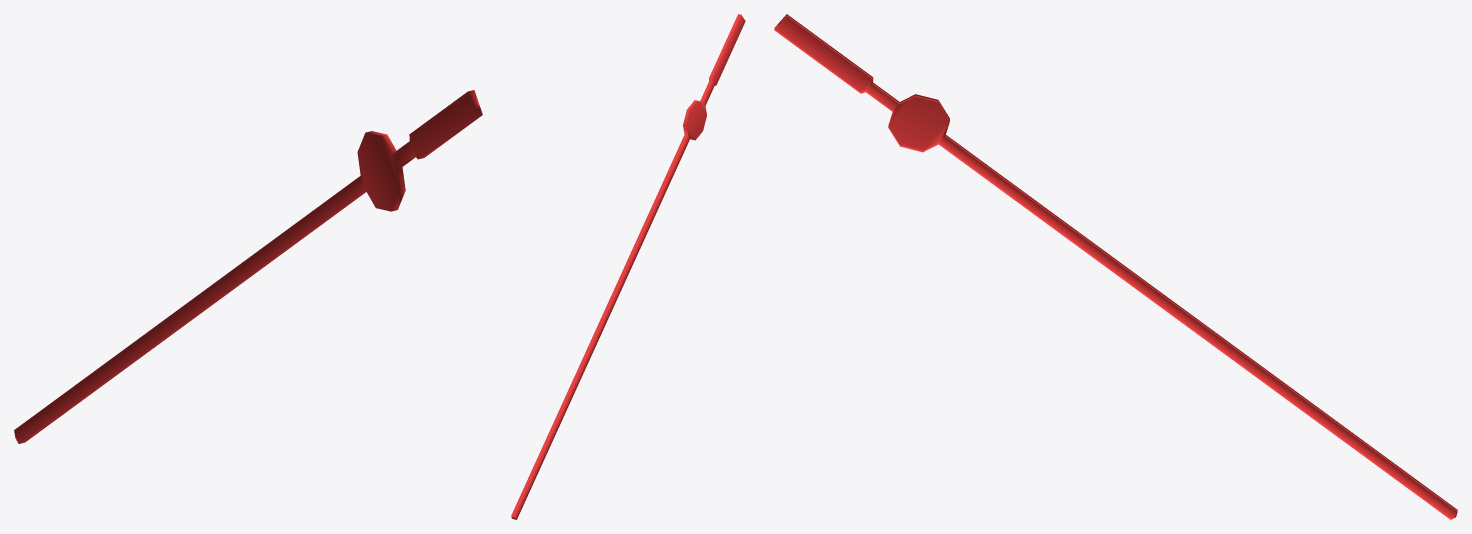
File: SM_Clock_01b.fbx
3 renders of one model, left to right at view 1: azimuth 30°, elevation 25°; view 2: azimuth 150°, elevation 25°; view 3: azimuth 270°, elevation 25°, orthographic. The views are drawn at different scales.
Parts seen in each view (by area): view 1: SM_Clock_01b_LOD0; view 2: SM_Clock_01b_LOD0; view 3: SM_Clock_01b_LOD0.
Boxes of the visible parts, left/top/right/bottom form: SM_Clock_01b_LOD0: left=14, top=90, right=482, bottom=443; SM_Clock_01b_LOD0: left=511, top=14, right=745, bottom=519; SM_Clock_01b_LOD0: left=774, top=14, right=1457, bottom=519.
Size of the model in its own units: 0.1396 by 17.16 by 13.96.
